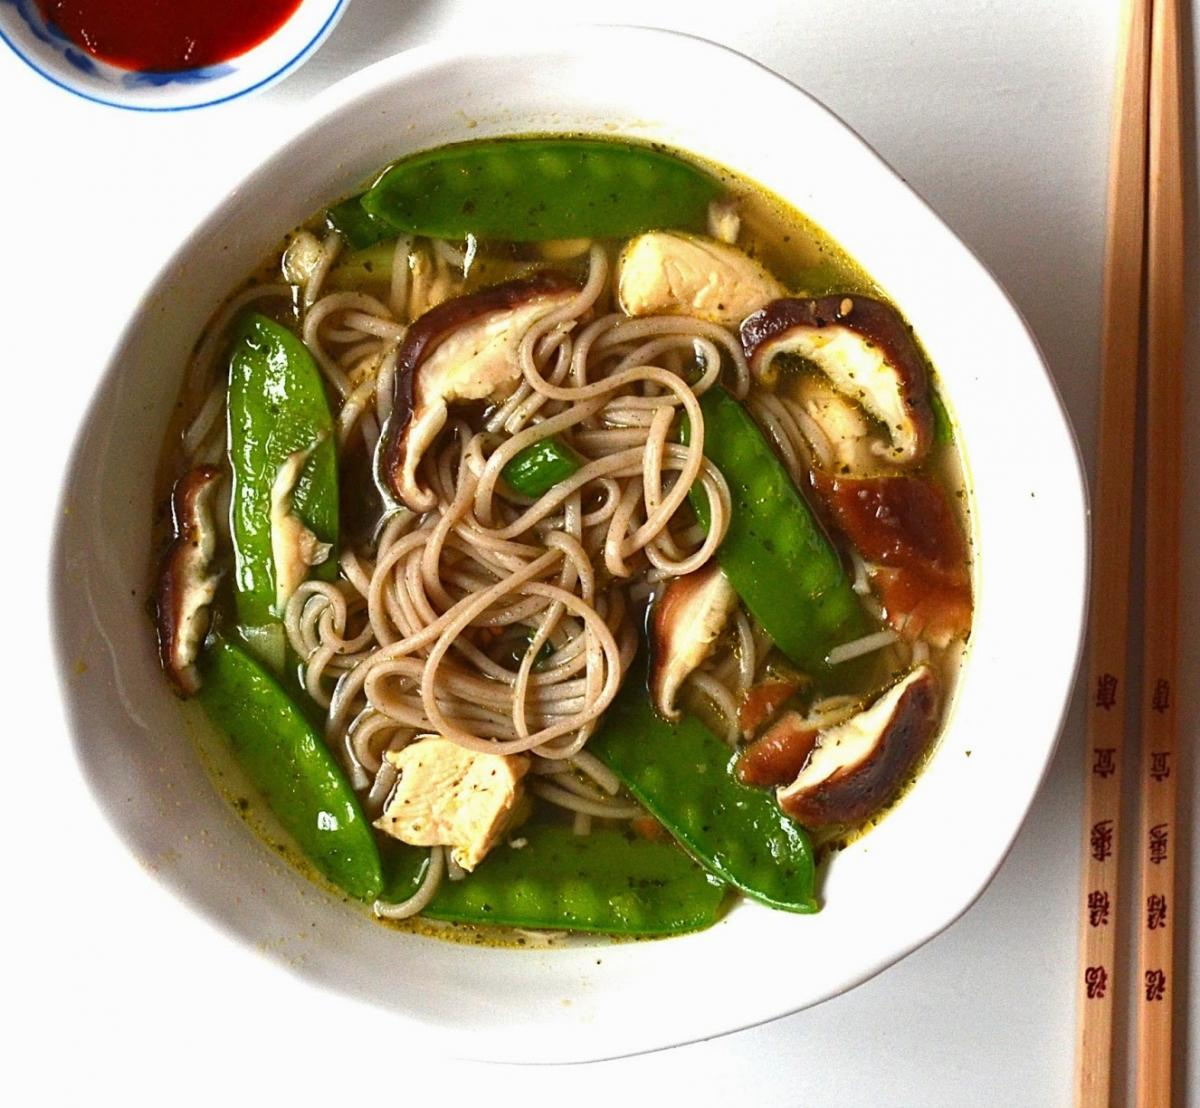Soba: (203, 216, 703, 865)
